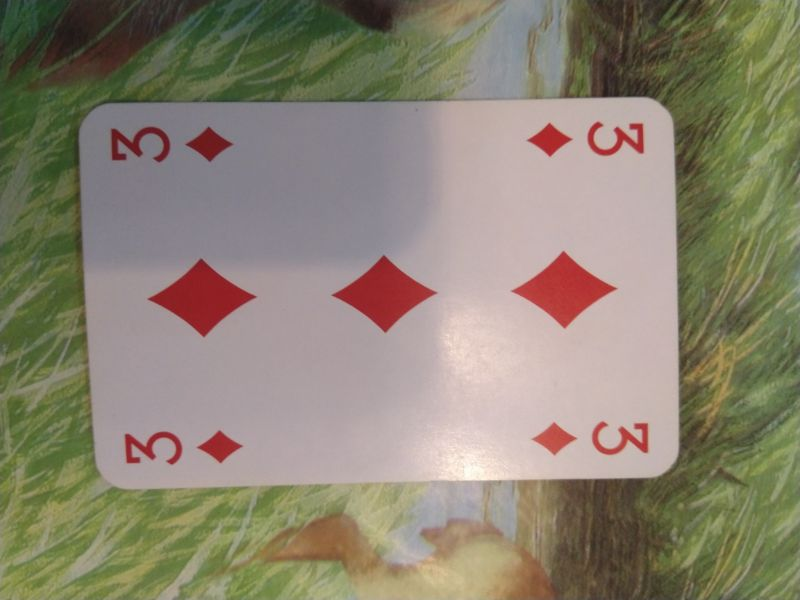3d: (105, 117, 244, 169), (524, 408, 657, 461), (523, 115, 651, 167), (117, 421, 249, 469)
